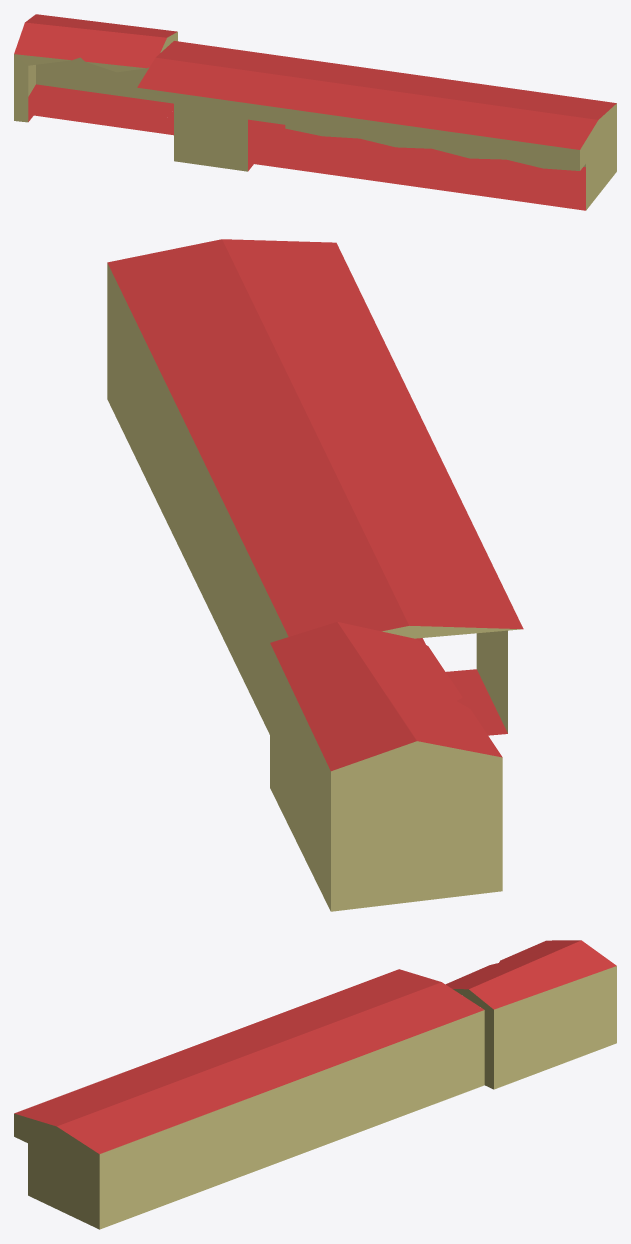
The picture shows the model from 3 angles, top to bottom: view 1: azimuth 30°, elevation 25°; view 2: azimuth 150°, elevation 25°; view 3: azimuth 270°, elevation 25°; orthographic projection. The views are drawn at different scales.
Size of the model in its own units: 89.44 by 106 by 17.12.
